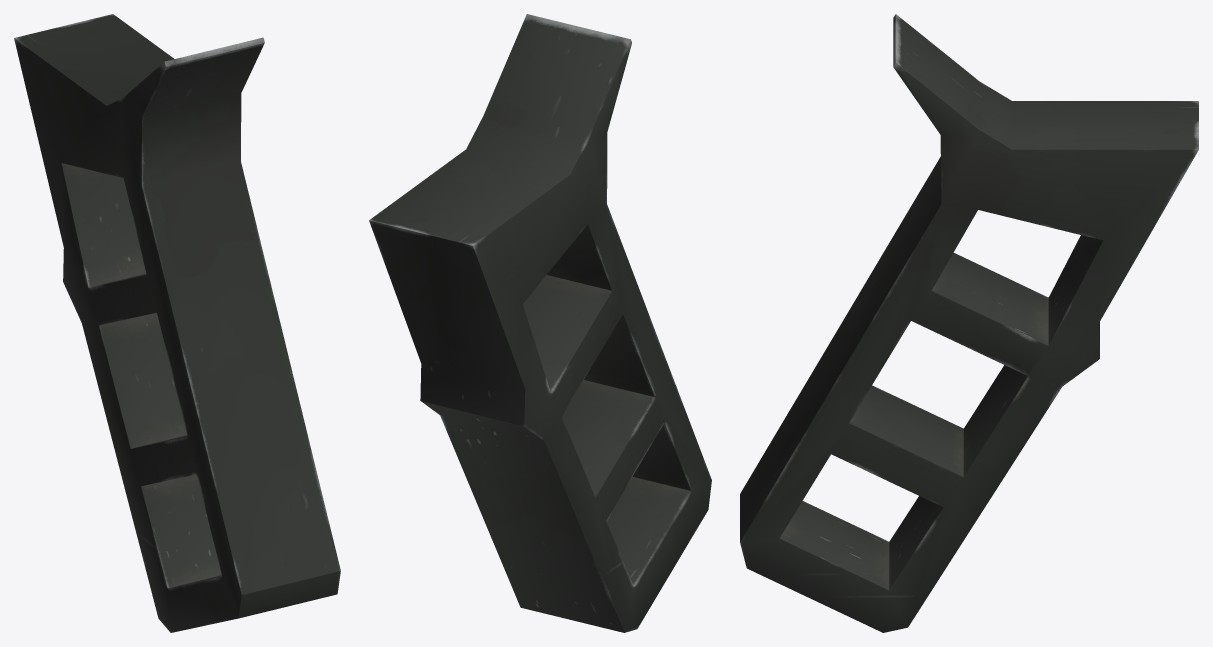
Rendered from punho_vazado_m4.glb.
3 renders of one model, left to right at view 1: azimuth 30°, elevation 25°; view 2: azimuth 150°, elevation 25°; view 3: azimuth 270°, elevation 25°, orthographic. The views are drawn at different scales.
Visible parts, largest first — view 1: punho_vazado_m4_punho_vazado; view 2: punho_vazado_m4_punho_vazado; view 3: punho_vazado_m4_punho_vazado.
Boxes of the visible parts, x1=… form: punho_vazado_m4_punho_vazado: x1=14, y1=14, x2=340, y2=632; punho_vazado_m4_punho_vazado: x1=369, y1=14, x2=711, y2=632; punho_vazado_m4_punho_vazado: x1=740, y1=14, x2=1198, y2=632.
Size of the model in its own units: 0.021 by 0.1145 by 0.0834.
Materials: 1 (1 with a texture image).
